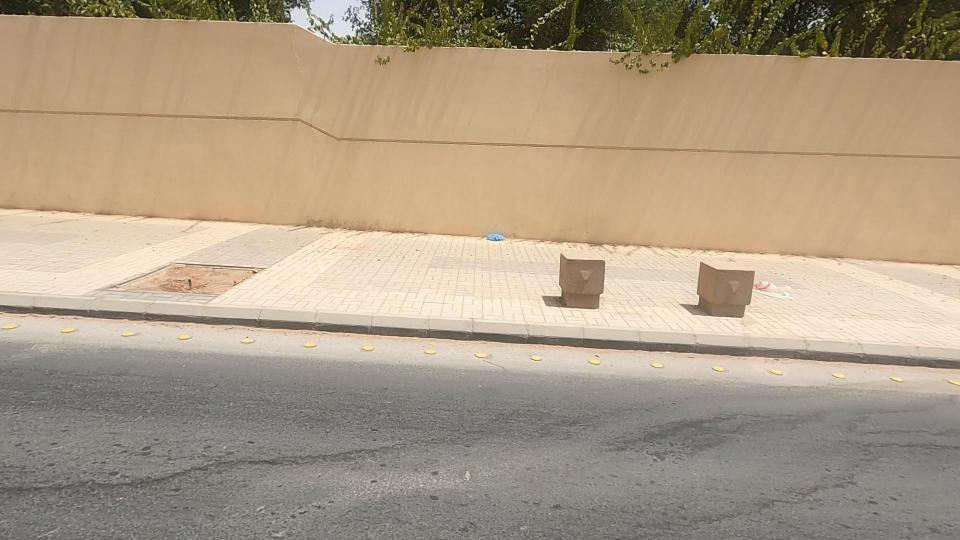GARBAGE: (437, 197, 536, 271)
